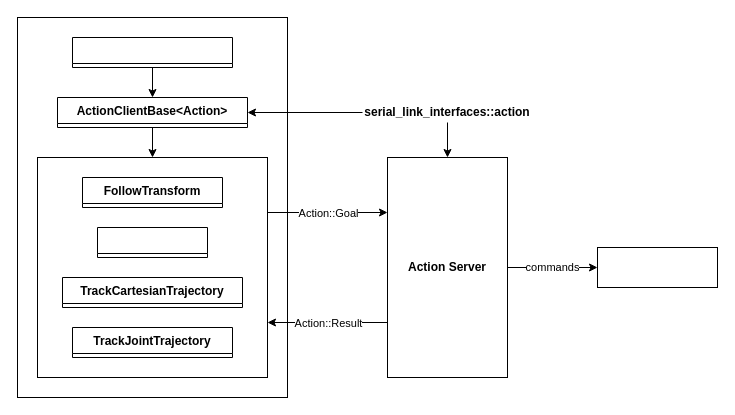
Some shapes in this 735 by 415 pixel diagram are drawn without their labels. Each missing label, with the box of its shape:
ActionClientInterface: (72, 36, 232, 68)
FollowTwist: (96, 226, 208, 258)
robot: (596, 246, 718, 288)
